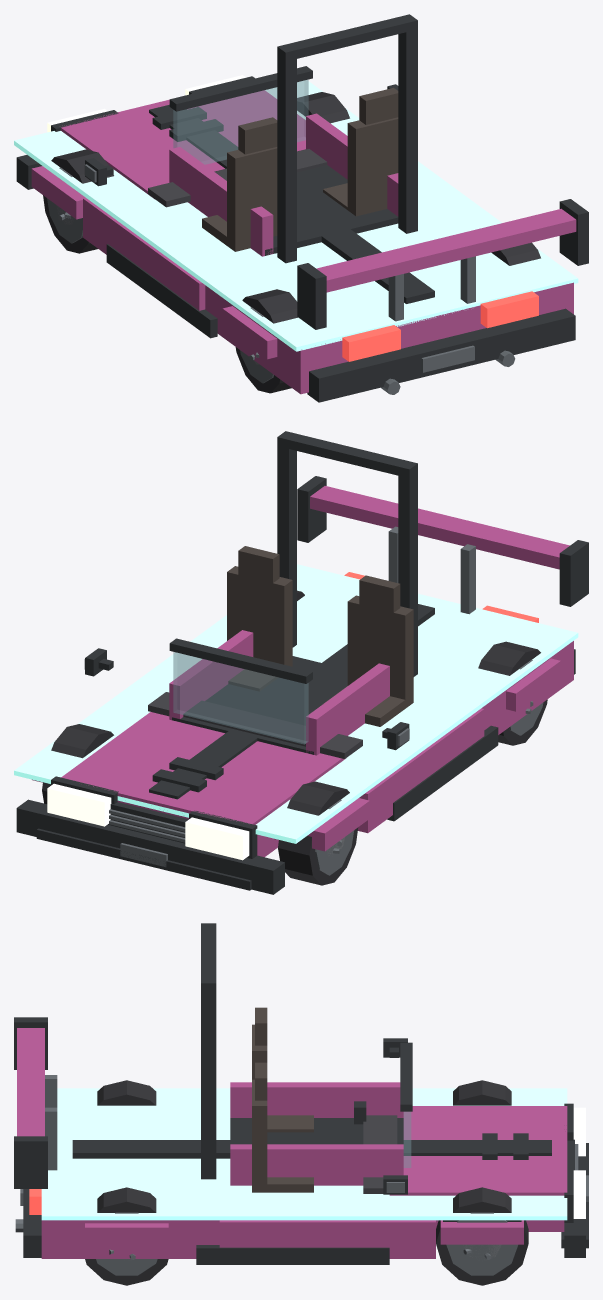
File: race_car.glb
The picture shows the model from 3 angles, top to bottom: view 1: azimuth 30°, elevation 25°; view 2: azimuth 150°, elevation 25°; view 3: azimuth 270°, elevation 25°; orthographic projection. The views are drawn at different scales.
Parts seen in each view (by area): view 1: RaceCar_Lip, RaceCar_Nose, RaceCar_BumperR, RaceCar_Wing, RaceCar_Deck, RaceCar_Visor, RaceCar_PassengerBack, RaceCar_HoopPostR, RaceCar_HoopPostL, RaceCar_CockpitSill, RaceCar_DriverBack, RaceCar_PodL (+27 smaller); view 2: RaceCar_Lip, RaceCar_Nose, RaceCar_Visor, RaceCar_Wing, RaceCar_BumperF, RaceCar_DriverBack, RaceCar_CockpitSill, RaceCar_PassengerBack, RaceCar_PodL, RaceCar_CockpitWallL, RaceCar_Dash, RaceCar_Stripe (+30 smaller); view 3: RaceCar_Lip, RaceCar_Nose, RaceCar_PodR, RaceCar_CockpitWallR, RaceCar_Stripe, RaceCar_CockpitWallL, RaceCar_Deck, RaceCar_SkirtR, RaceCar_HoopPostR, RaceCar_Wing, RaceCar_TireFR, RaceCar_TireRR (+23 smaller).
Part boxes in pixels (box(x1,y1,x2,y2)): RaceCar_Lip: box(14, 80, 578, 351); RaceCar_Nose: box(61, 90, 305, 199); RaceCar_BumperR: box(307, 308, 575, 402); RaceCar_Wing: box(316, 208, 576, 292); RaceCar_Deck: box(205, 282, 573, 394); RaceCar_Visor: box(173, 79, 308, 164); RaceCar_PassengerBack: box(347, 117, 398, 216); RaceCar_HoopPostR: box(398, 14, 417, 233); RaceCar_HoopPostL: box(277, 44, 296, 263); RaceCar_CockpitSill: box(215, 149, 398, 255); RaceCar_DriverBack: box(227, 147, 277, 251); RaceCar_PodL: box(83, 198, 205, 310); RaceCar_Lip: box(14, 564, 578, 843); RaceCar_Nose: box(61, 712, 345, 857); RaceCar_Visor: box(173, 652, 308, 744); RaceCar_Wing: box(310, 486, 569, 569); RaceCar_BumperF: box(16, 799, 284, 894); RaceCar_DriverBack: box(347, 595, 413, 708); RaceCar_CockpitSill: box(172, 656, 347, 754); RaceCar_PassengerBack: box(227, 566, 292, 666); RaceCar_PodL: box(358, 708, 484, 833); RaceCar_CockpitWallL: box(306, 663, 389, 755); RaceCar_Dash: box(148, 692, 362, 758); RaceCar_Stripe: box(149, 604, 434, 799); RaceCar_Lip: box(41, 1088, 567, 1220); RaceCar_Nose: box(389, 1106, 567, 1231); RaceCar_PodR: box(219, 1220, 435, 1258); RaceCar_CockpitWallR: box(230, 1144, 403, 1185); RaceCar_Stripe: box(72, 1140, 551, 1158); RaceCar_CockpitWallL: box(230, 1082, 403, 1117); RaceCar_Deck: box(41, 1220, 219, 1258); RaceCar_SkirtR: box(196, 1245, 389, 1264); RaceCar_HoopPostR: box(201, 978, 216, 1179); RaceCar_Wing: box(17, 1028, 44, 1136); RaceCar_TireFR: box(436, 1187, 528, 1285); RaceCar_TireRR: box(85, 1187, 168, 1285).
Bounding box in the file's own units: 2.19 × 1.94 × 3.72.
